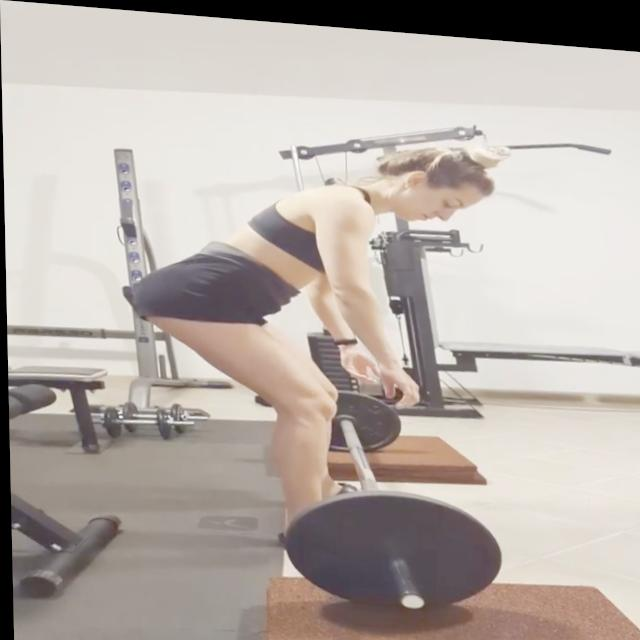barbell: (276, 475, 510, 626)
